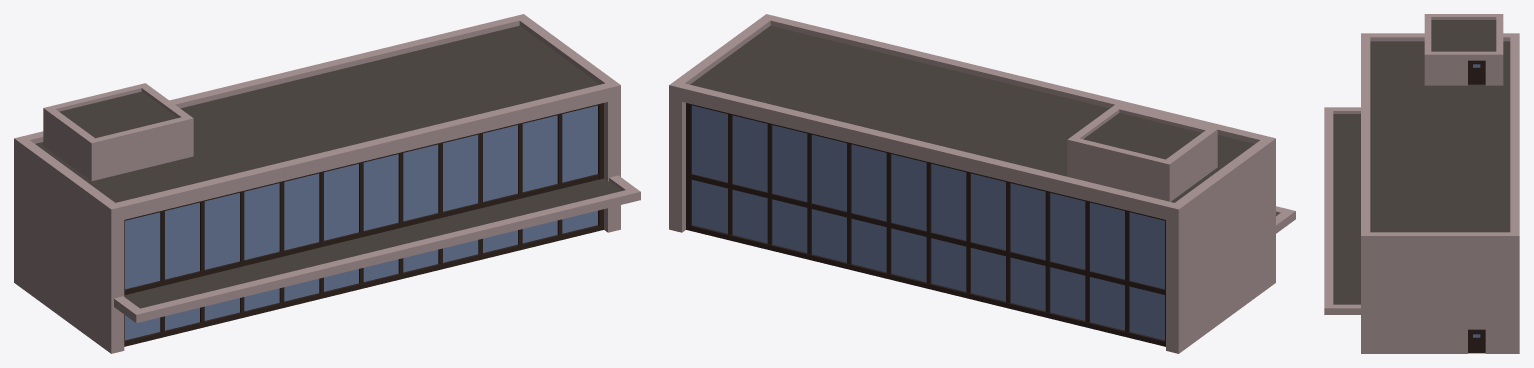
The model's file is Station_01.fbx.
The picture shows the model from 3 angles, left to right: view 1: azimuth 30°, elevation 25°; view 2: azimuth 150°, elevation 25°; view 3: azimuth 270°, elevation 25°; orthographic projection. The views are drawn at different scales.
Parts seen in each view (by area): view 1: Station_01; view 2: Station_01; view 3: Station_01.
Boxes of the visible parts, x1,y1,x2,y2 form: Station_01: [14, 14, 640, 353]; Station_01: [669, 14, 1295, 353]; Station_01: [1324, 14, 1519, 353].
Bounding box in the file's own units: 42.72 × 14.21 × 17.36.
